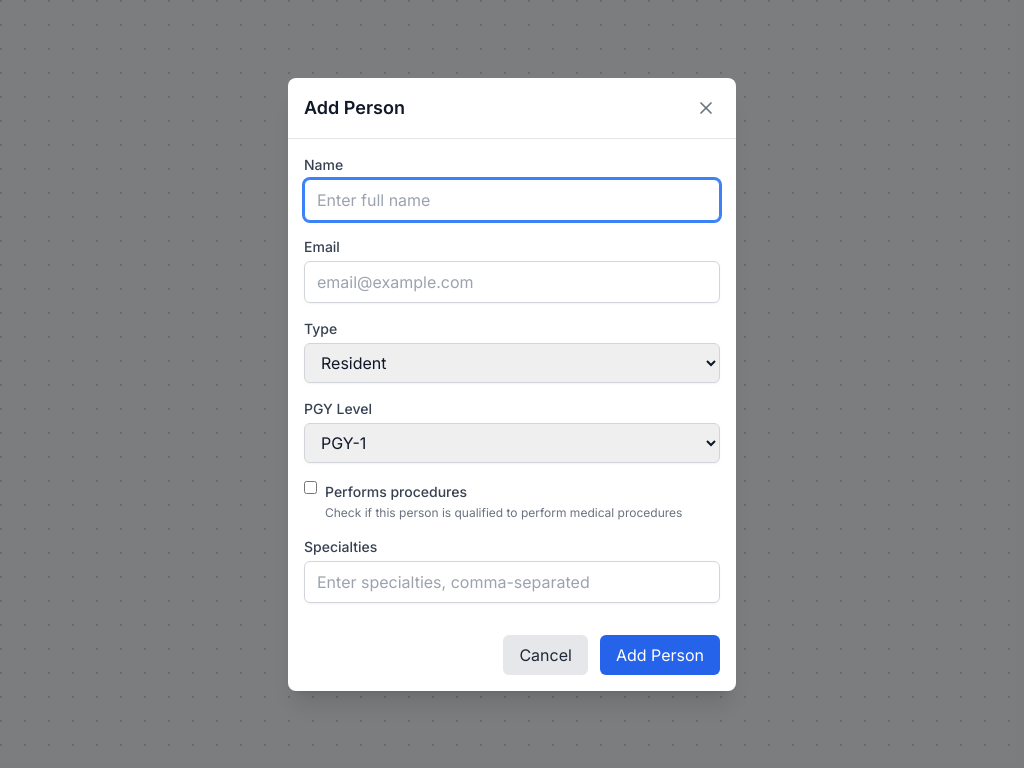
Scenario: AddPersonModal › Form Validation › should show error when name is too short
# Enter a single character (bypasses HTML5 required validation)
Type "A" into the field labelled "Name" at {"x": 512, "y": 200}, box [304, 178, 720, 220]
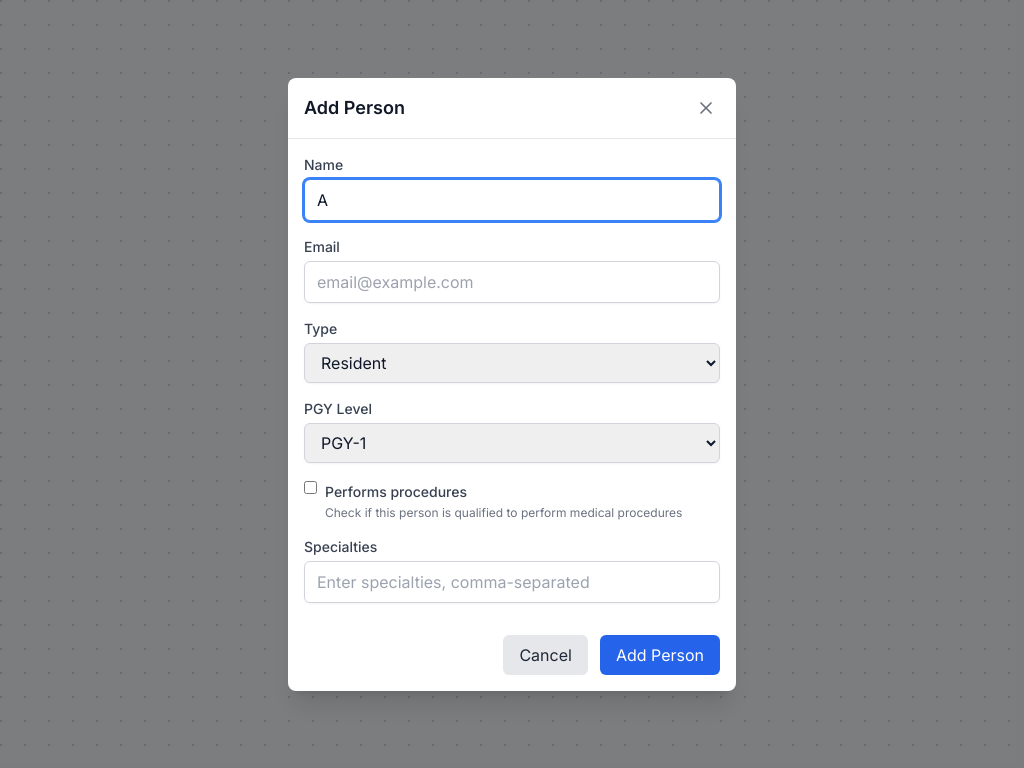
# Submit form (fires React validation)
Submit the form labelled "Name", box [304, 154, 720, 674]
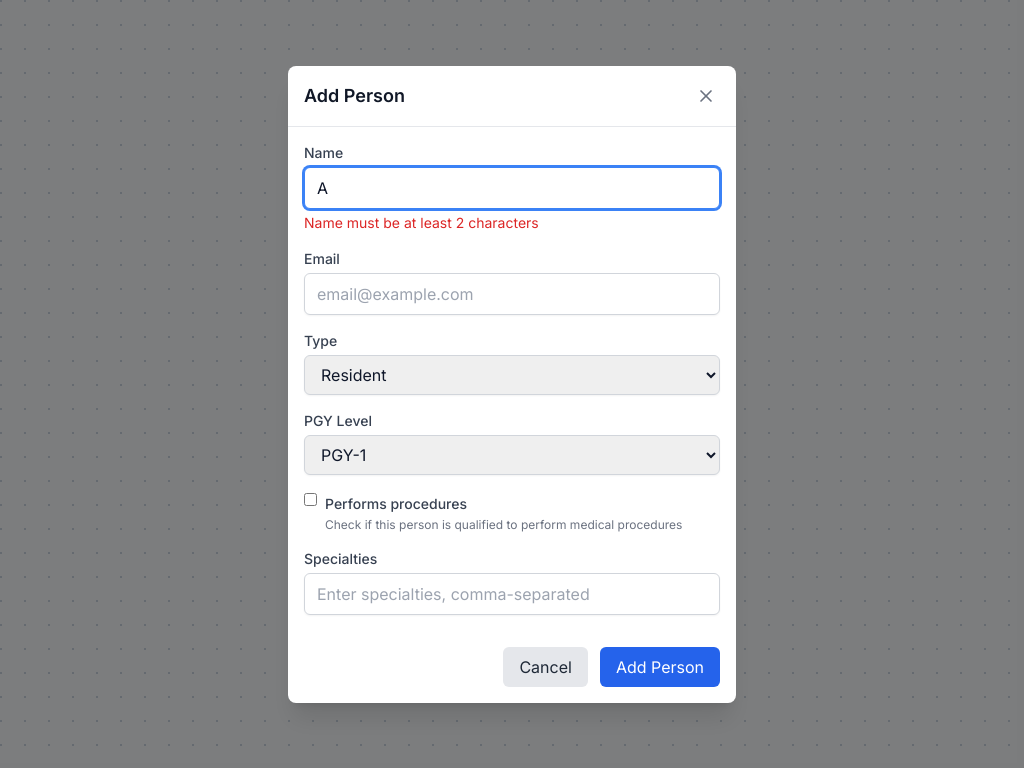
Expected: the text "Name must be at least 2 characters" is shown, [304, 214, 539, 230]
